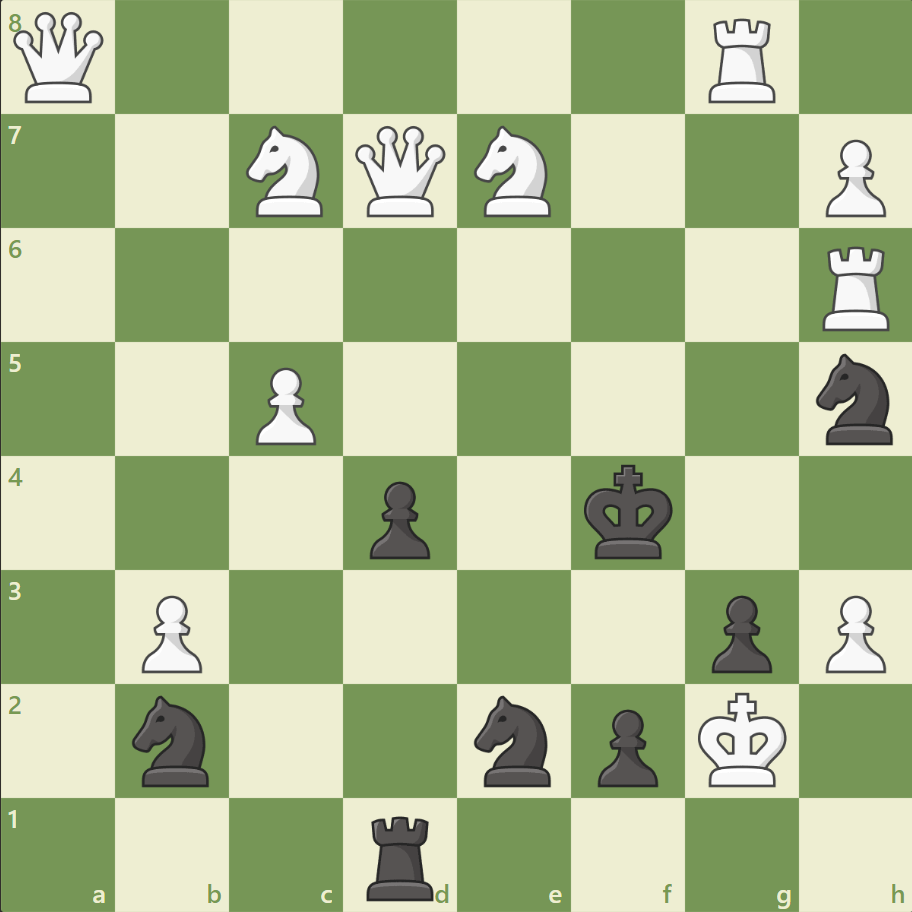K: (692, 685, 792, 793)
N: (238, 121, 335, 223), (465, 121, 562, 223)
P: (247, 359, 322, 450), (133, 586, 208, 677), (815, 132, 889, 223), (815, 586, 889, 677)
Q: (351, 122, 450, 222), (10, 9, 109, 108)
R: (700, 12, 783, 109), (814, 239, 897, 336)
k: (579, 458, 679, 566)
n: (124, 688, 222, 791), (465, 688, 562, 791), (806, 348, 903, 450)
p: (701, 586, 776, 677), (361, 473, 435, 564), (588, 700, 662, 791)
r: (360, 806, 442, 904)
